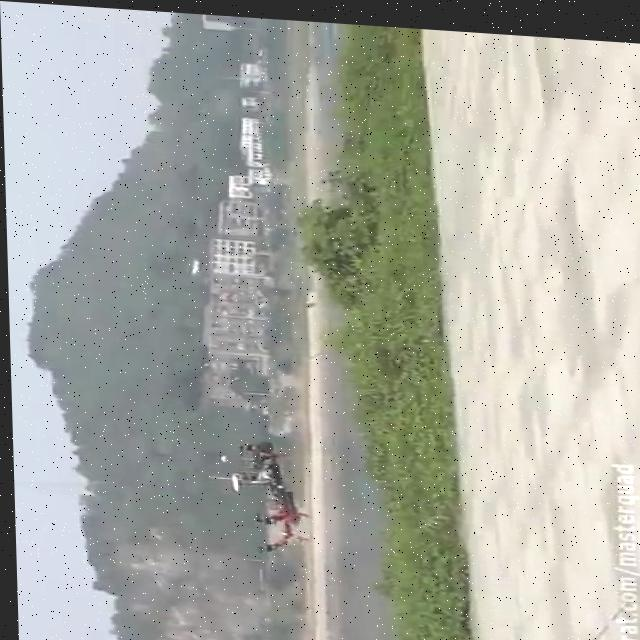drone: (213, 432, 310, 559)
